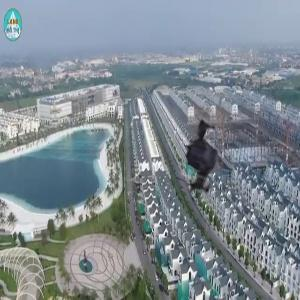drone: (156, 106, 263, 213)
